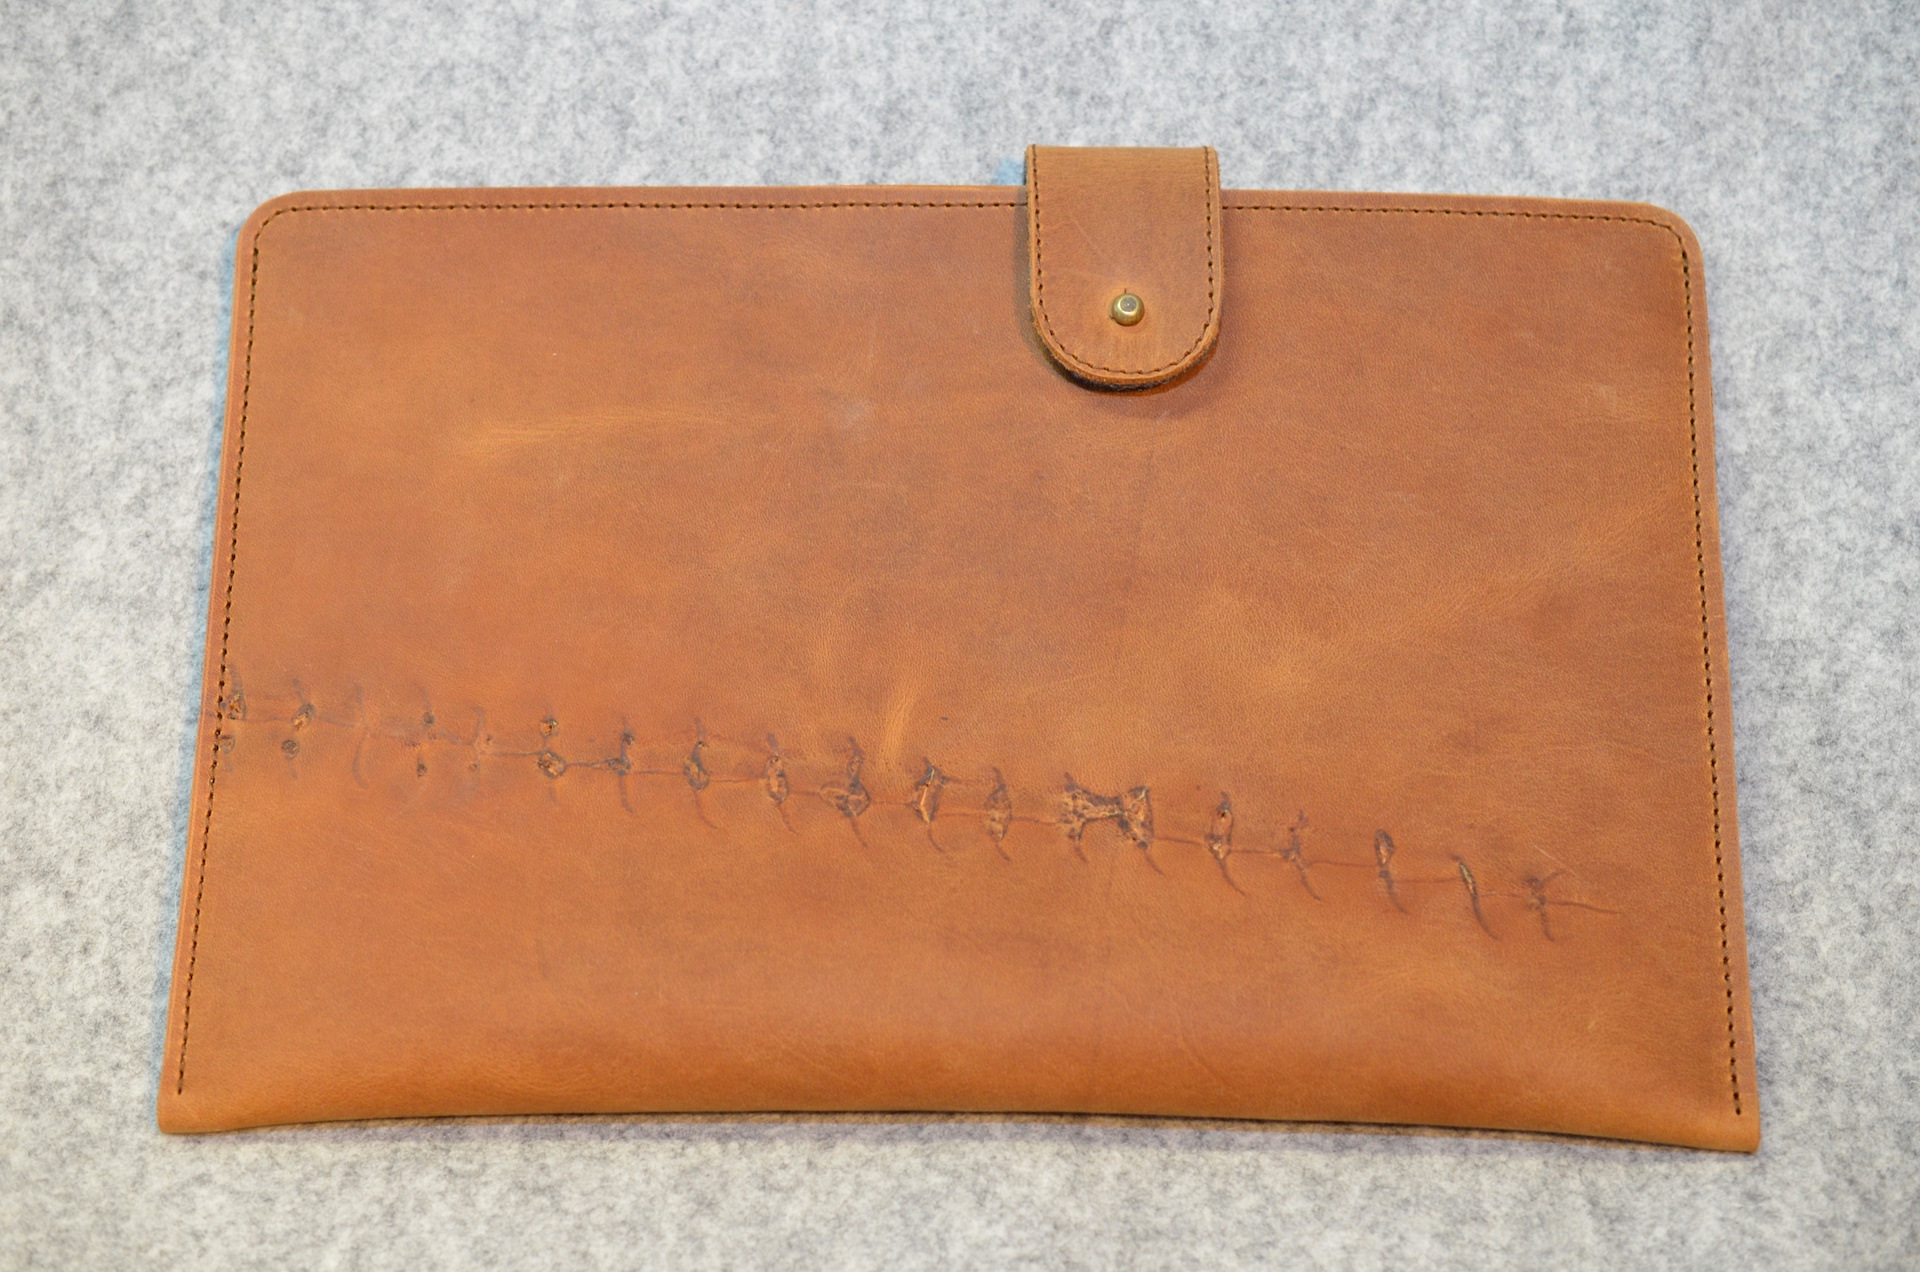monedero: (155, 141, 1765, 1170)
